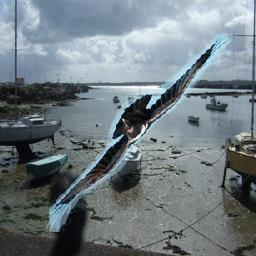Crow: (46, 34, 233, 233)
